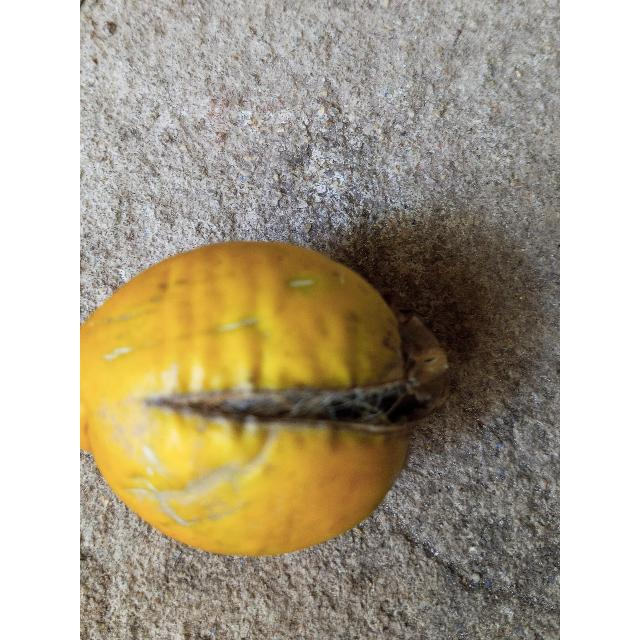damaged: (80, 241, 452, 560)
